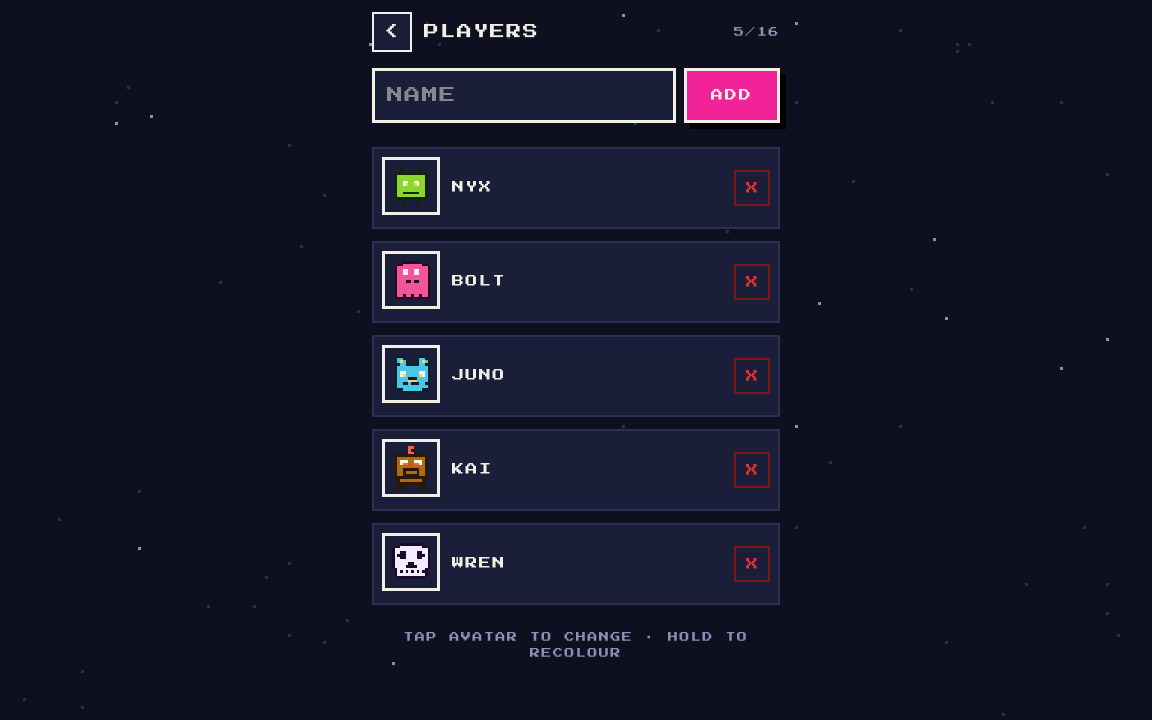
Scenario: screen rendering › player setup rejects a duplicate name
Type "nyx" into the field with placeholder "NAME". click: (524, 95)
box: [372,68,676,123]
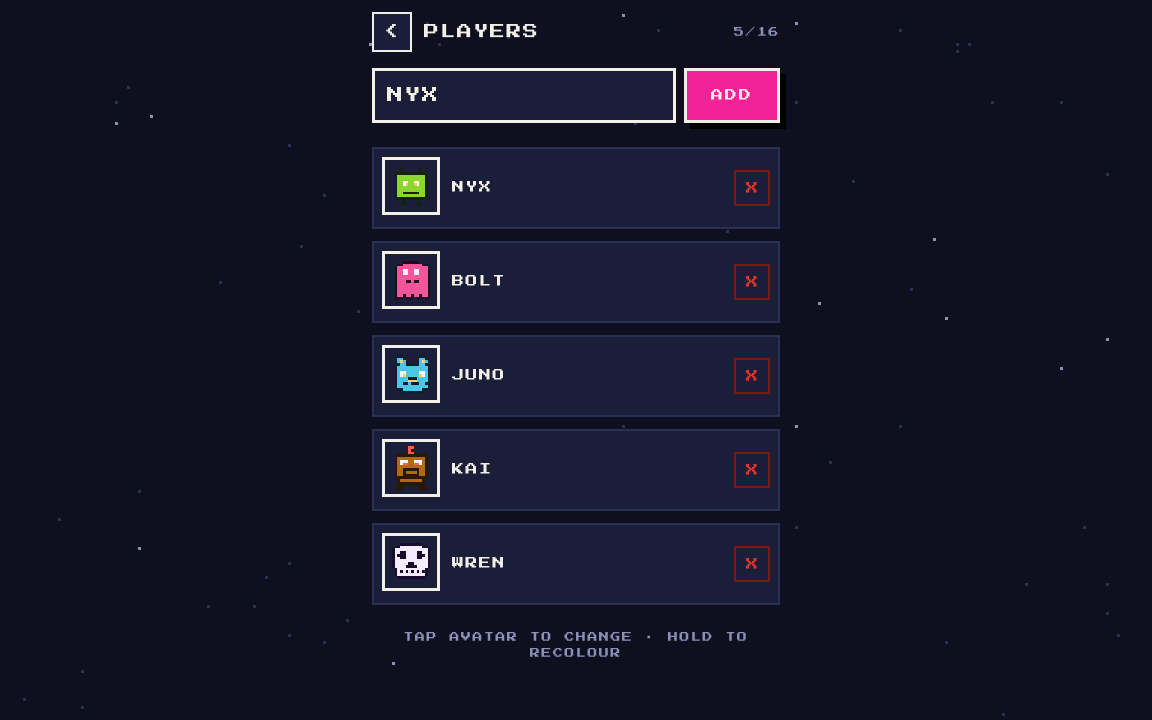
Click the button "Add". click: click(732, 95)
box: [684,68,780,123]
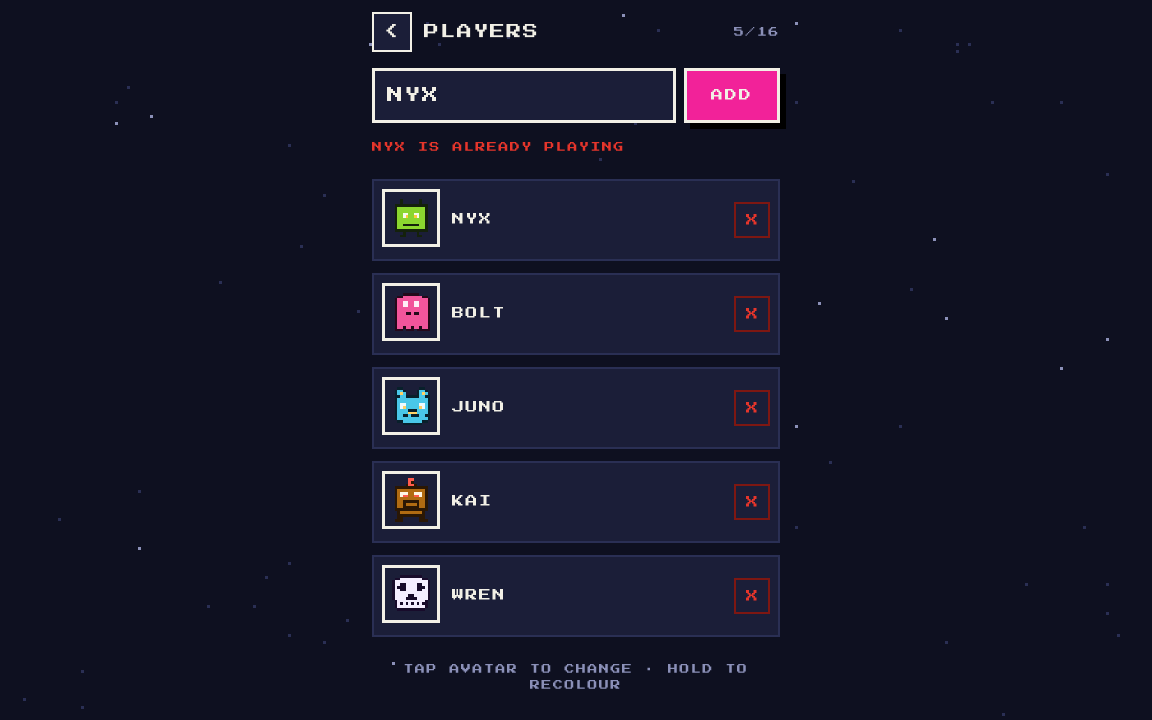
Now the text "NYX is already playing" is shown, box [372,142,625,152]
